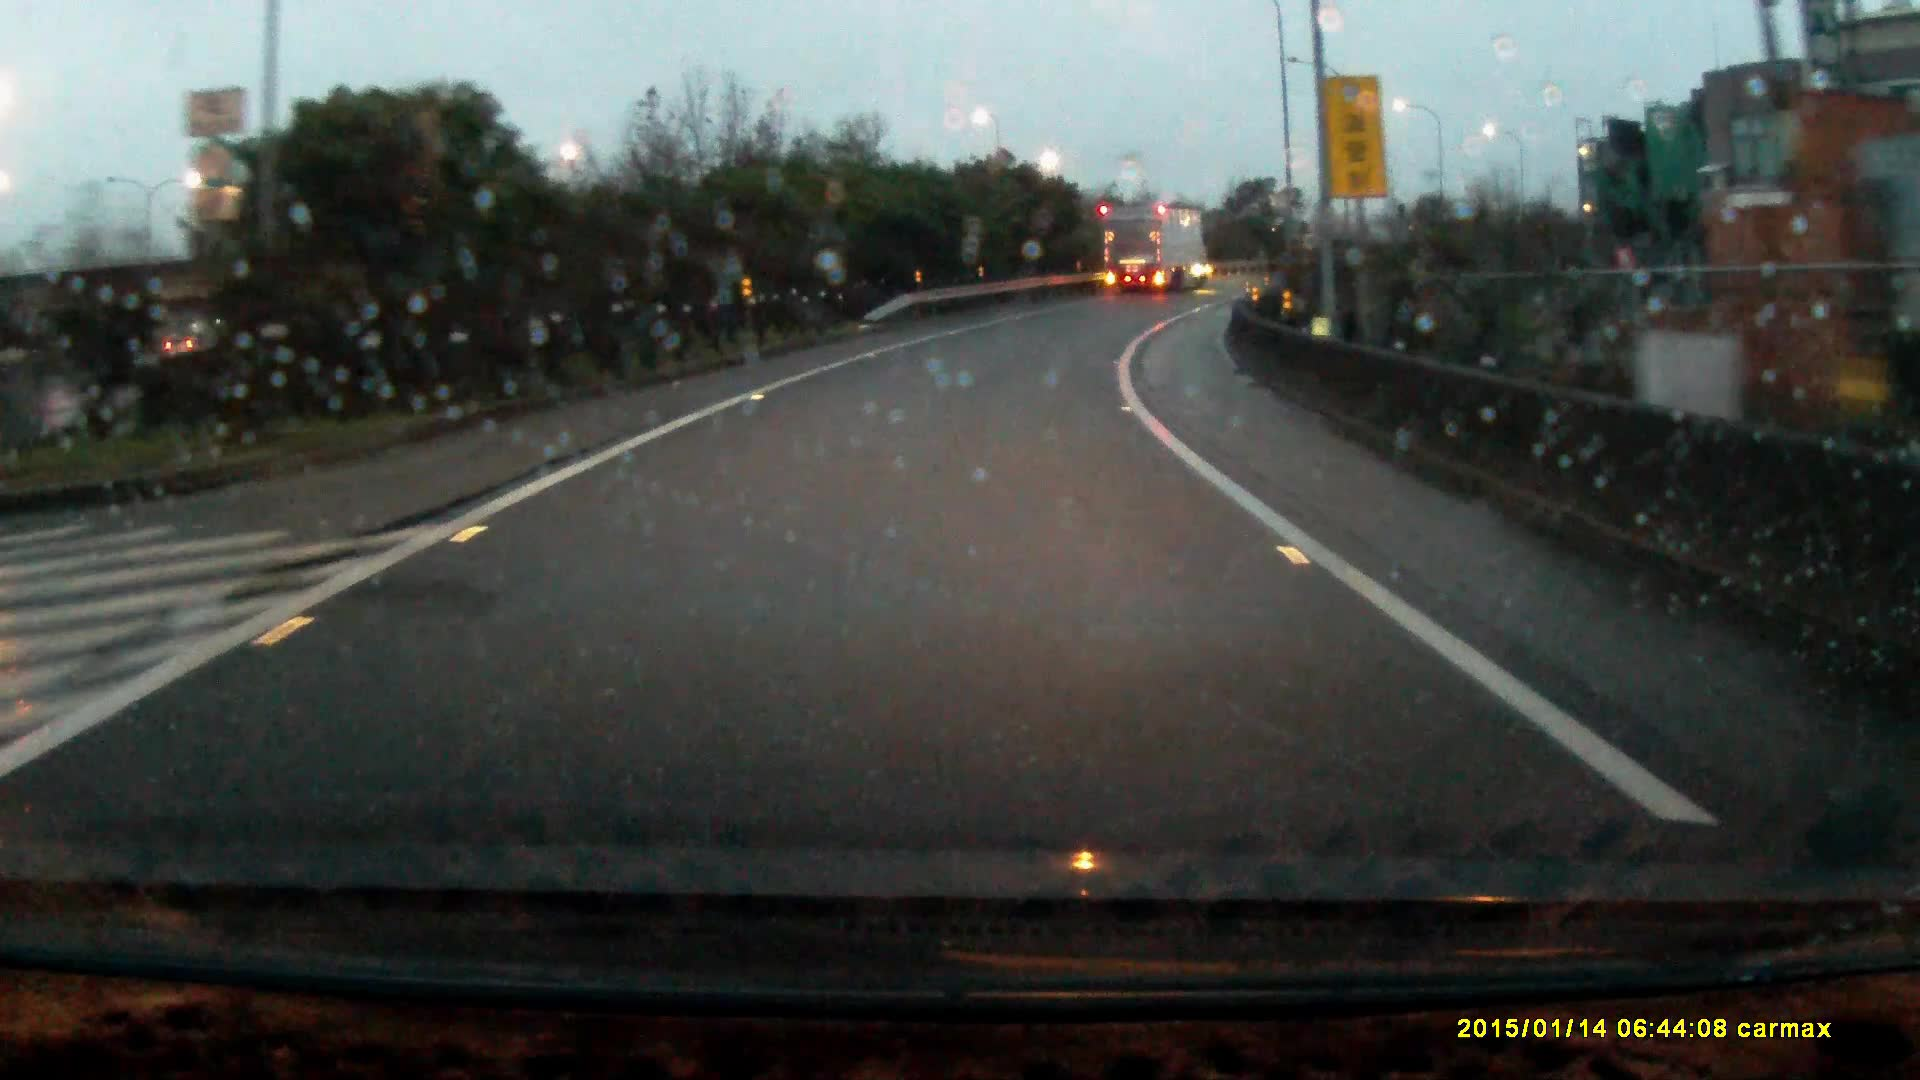vehicle: (1100, 202, 1211, 295)
